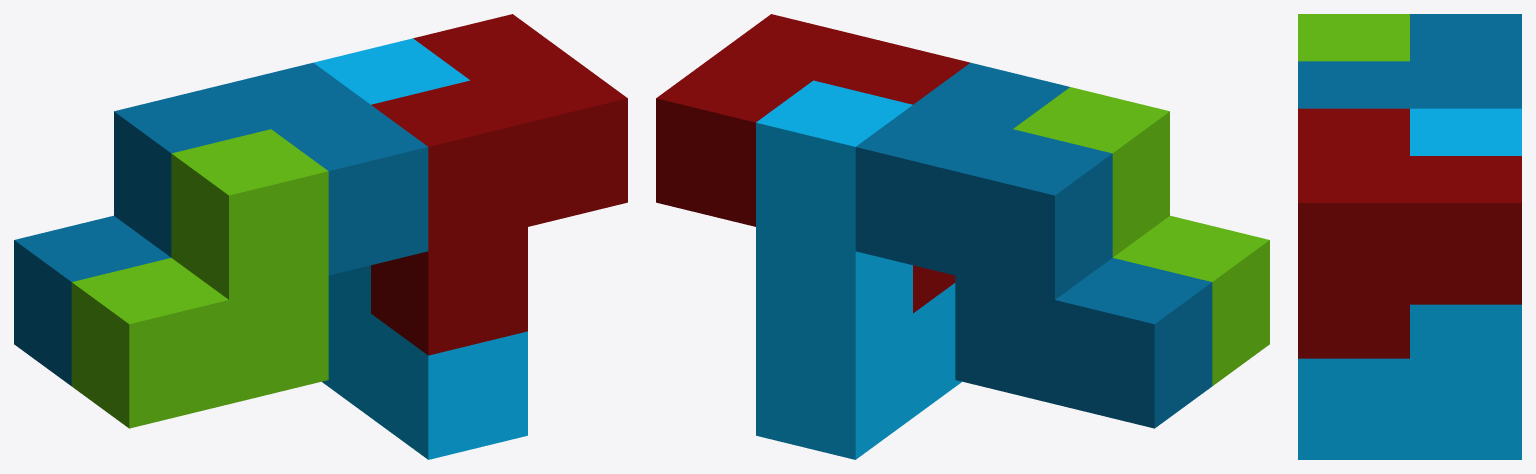
3 renders of one model, left to right at view 1: azimuth 30°, elevation 25°; view 2: azimuth 150°, elevation 25°; view 3: azimuth 270°, elevation 25°, orthographic. The views are drawn at different scales.
Visible parts, largest first — view 1: mergedBlocks(Clone); view 2: mergedBlocks(Clone); view 3: mergedBlocks(Clone).
Boxes of the visible parts, x1=… form: mergedBlocks(Clone): x1=14, y1=14, x2=627, y2=459; mergedBlocks(Clone): x1=656, y1=14, x2=1269, y2=459; mergedBlocks(Clone): x1=1298, y1=14, x2=1521, y2=459.
Size of the model in its own units: 5 by 3 by 2.
Materials: 4 (4 with a texture image).
